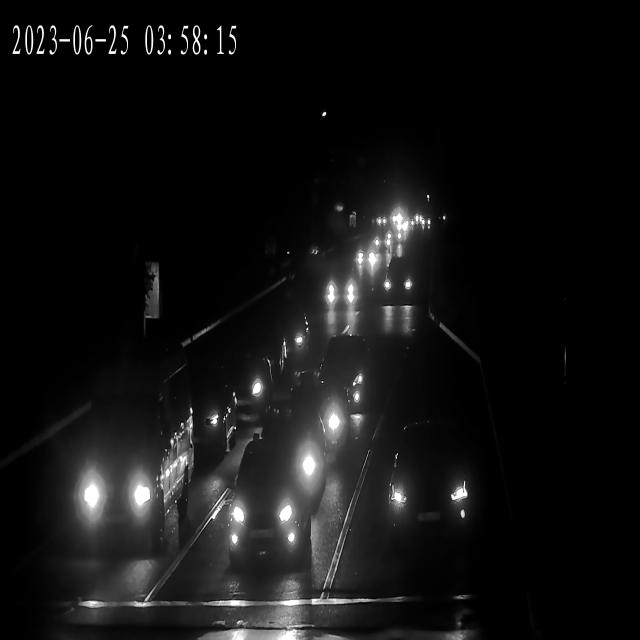Car: (53, 396, 183, 557), (218, 427, 338, 570), (219, 454, 323, 574), (382, 430, 477, 540), (179, 372, 248, 469), (282, 378, 356, 462), (200, 348, 281, 416), (277, 320, 320, 370), (323, 273, 360, 310), (383, 268, 418, 303), (351, 247, 380, 271), (381, 230, 406, 251), (370, 232, 396, 252), (373, 216, 391, 228)
